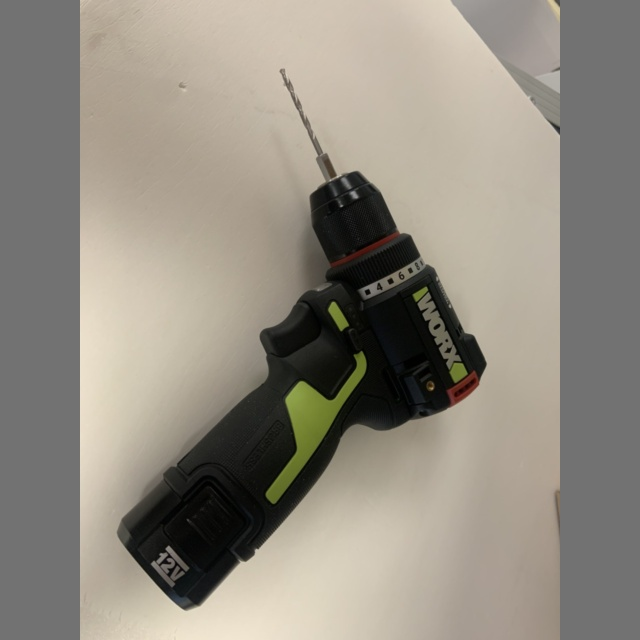drill: (118, 70, 488, 611)
